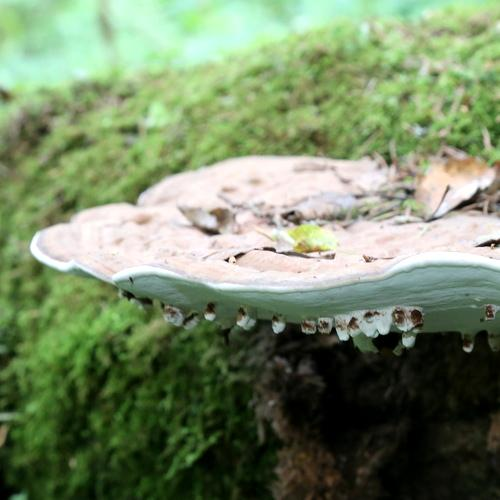Ganoderma - Fruit Body: (27, 143, 500, 365)
